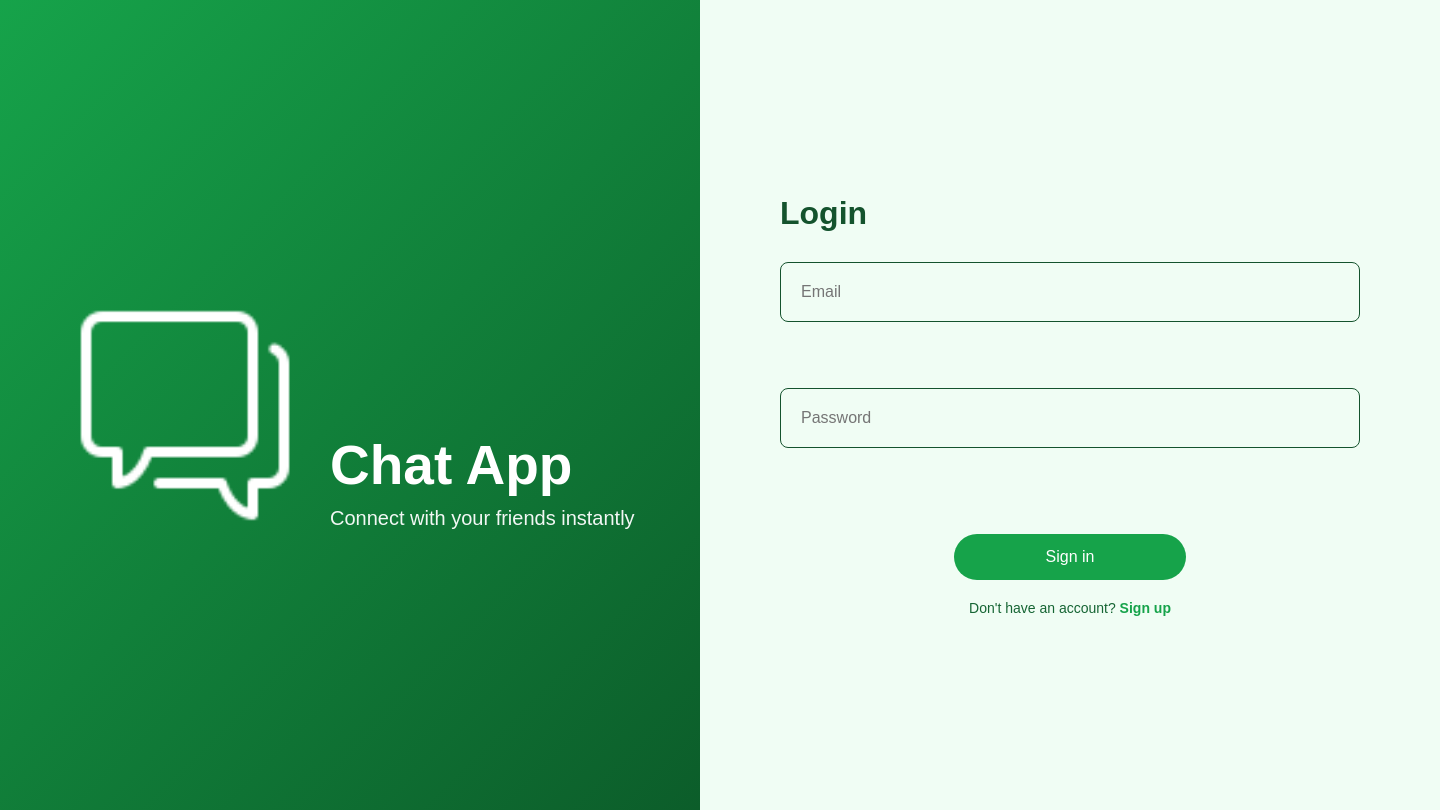
Test: Signin Component › should show validation errors on invalid submit
This screenshot has width=1440, height=810.
Click the button "Sign in": (1070, 556) [954,534,1186,580]
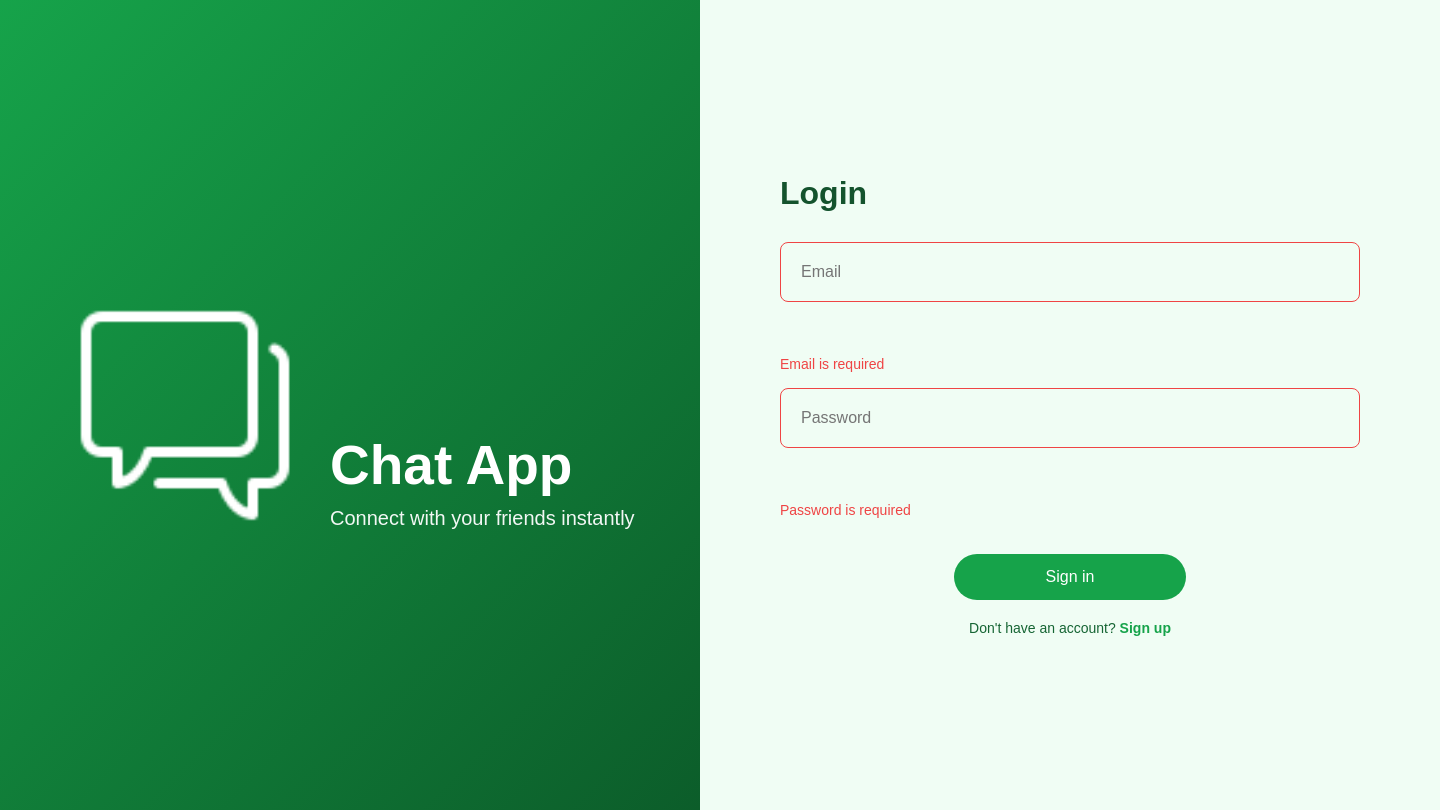
expect the text "Email is required" is shown: met, box [780,356,884,372]
expect the text "Password is required" is shown: met, box [780,502,911,518]
